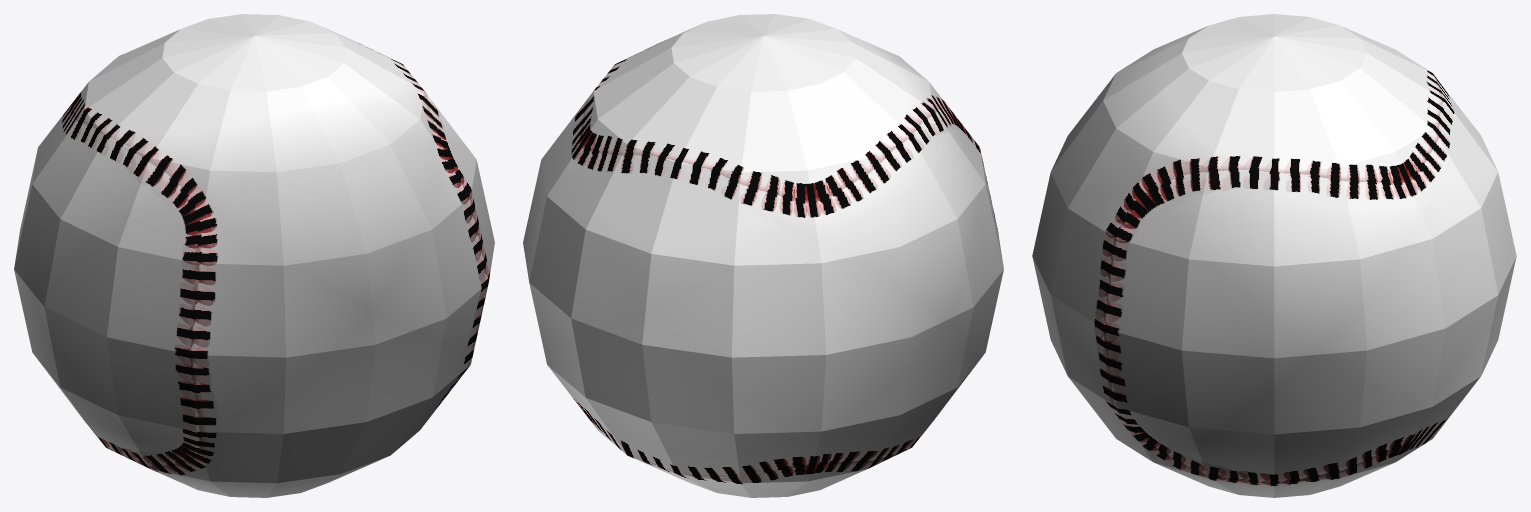
Rendered from baseball.glb.
3 renders of one model, left to right at view 1: azimuth 30°, elevation 25°; view 2: azimuth 150°, elevation 25°; view 3: azimuth 270°, elevation 25°, orthographic.
Parts seen in each view (by area): view 1: baseball; view 2: baseball; view 3: baseball.
Part boxes in pixels (x1=…): baseball: x1=14, y1=14, x2=494, y2=497; baseball: x1=523, y1=14, x2=1003, y2=497; baseball: x1=1032, y1=14, x2=1516, y2=497.
Bounding box in the file's own units: 0.6 × 0.6 × 0.6.
1 material, 1 textured.
